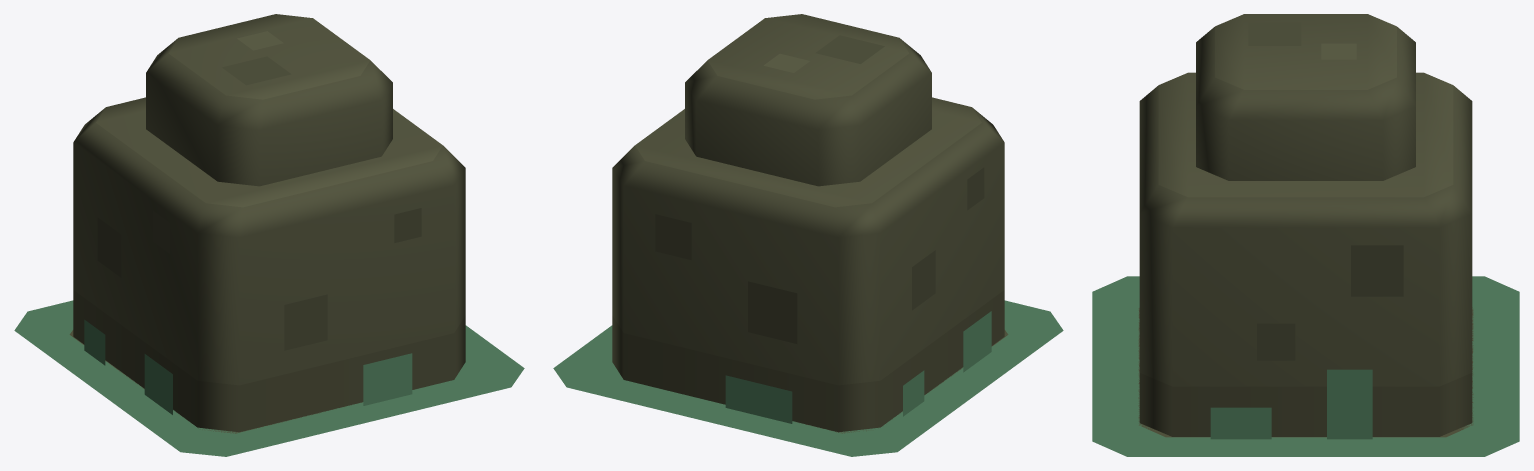
Rendered from B_water1_rock00.fbx.
The picture shows the model from 3 angles, left to right: view 1: azimuth 30°, elevation 25°; view 2: azimuth 150°, elevation 25°; view 3: azimuth 270°, elevation 25°; orthographic projection. The views are drawn at different scales.
Parts seen in each view (by area): view 1: model 1, model; view 2: model 1, model; view 3: model 1, model.
Part boxes in pixels (left/top/right/bottom): model 1: left=15, top=14, right=524, bottom=456; model: left=14, top=300, right=524, bottom=456; model 1: left=554, top=14, right=1062, bottom=456; model: left=553, top=300, right=1063, bottom=456; model 1: left=1092, top=14, right=1519, bottom=456; model: left=1092, top=276, right=1519, bottom=456.
Size of the model in its own units: 1.92 by 1.6 by 1.92.
